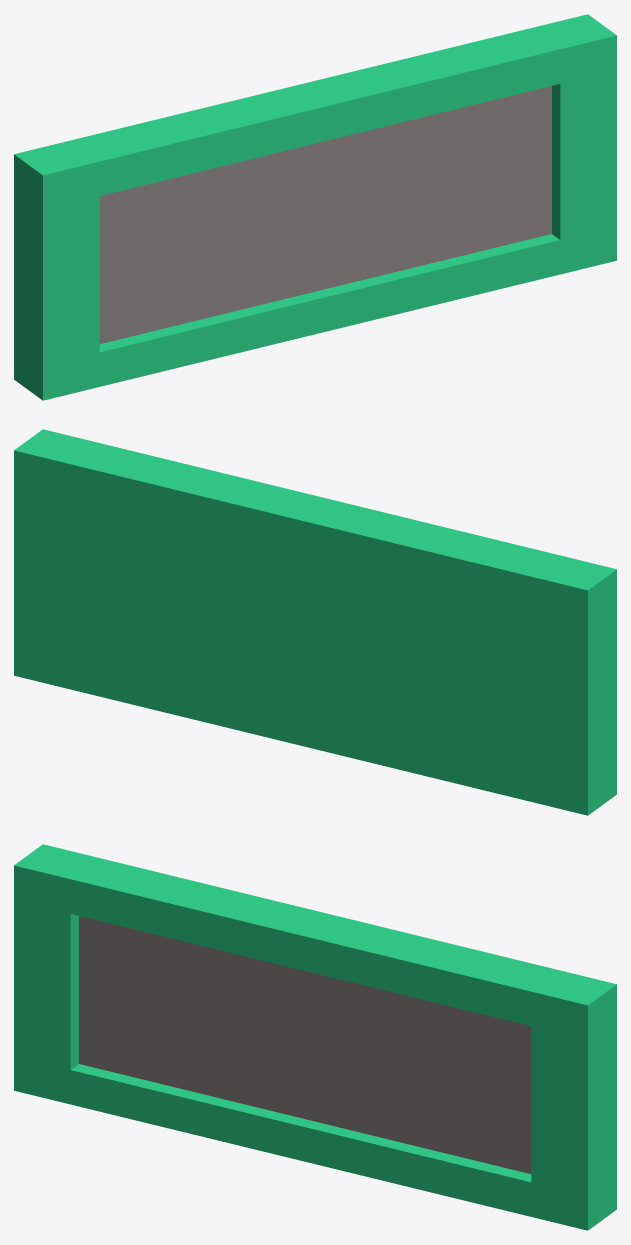
The model's file is CheckpointPoster.FBX.
3 renders of one model, top to bottom at view 1: azimuth 30°, elevation 25°; view 2: azimuth 150°, elevation 25°; view 3: azimuth 330°, elevation 25°, orthographic.
Visible parts, largest first — view 1: Poster; view 2: Poster; view 3: Poster.
Part boxes in pixels (x1,y1,x2,y2): Poster: (14,14,616,400); Poster: (14,429,616,815); Poster: (14,844,616,1230).
Bounding box in the file's own units: 80 × 30 × 7.
